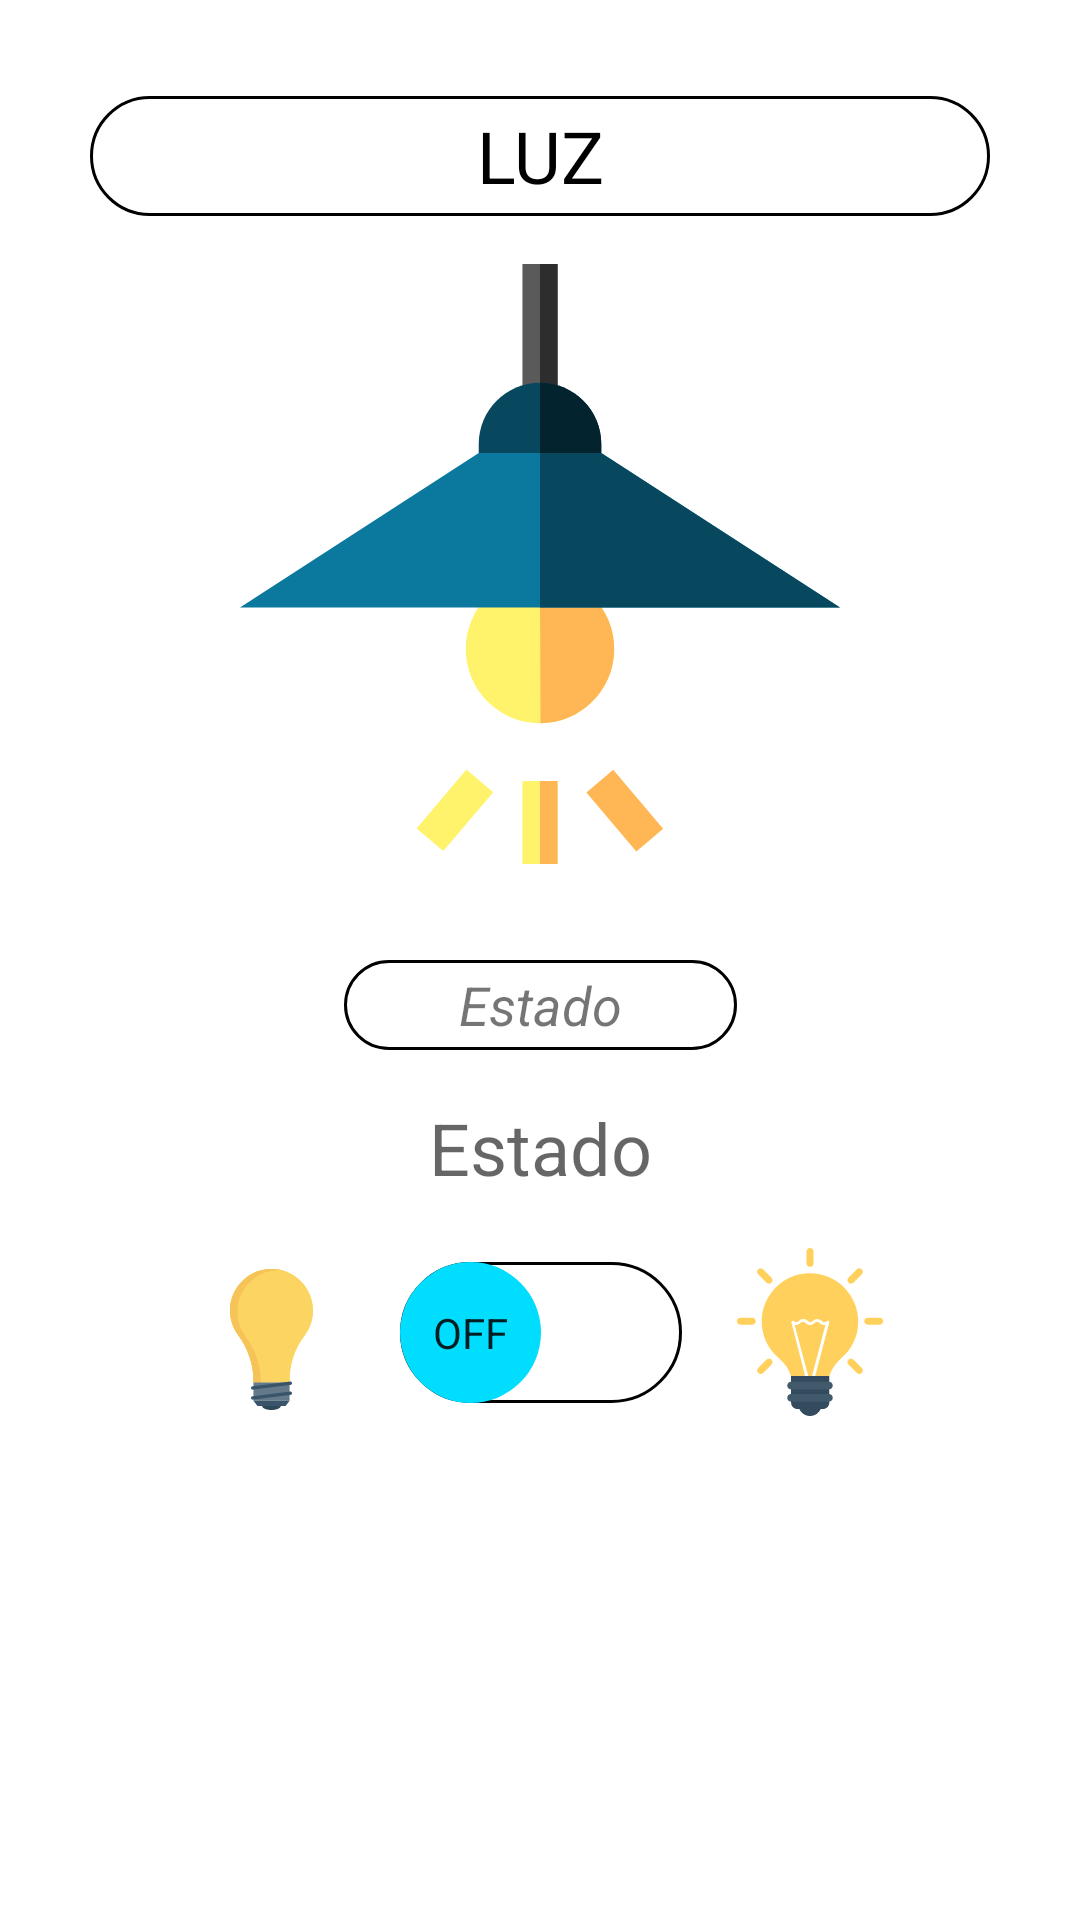

Where to tap for icons on this 1080 × 1920 app screen, as [x,y]:
bulb off: [271,1339]
bulb on: [810,1332]
